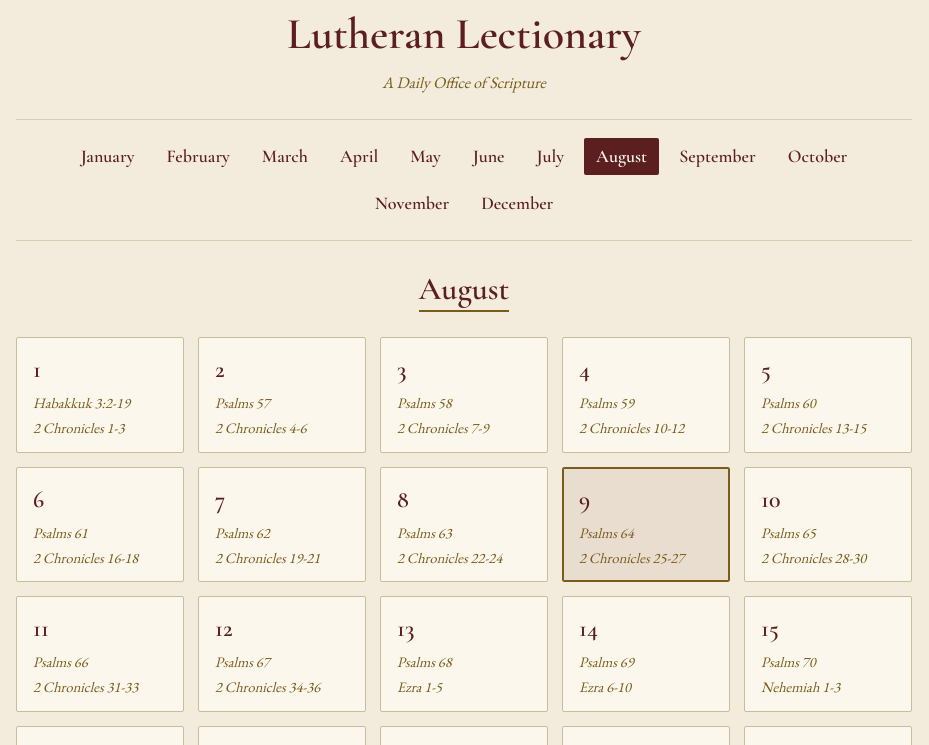
Home › should comma-separate books when there are multiple books in a reading
Step 1. Click the button "May" → (425, 156), box [398,138,453,175]
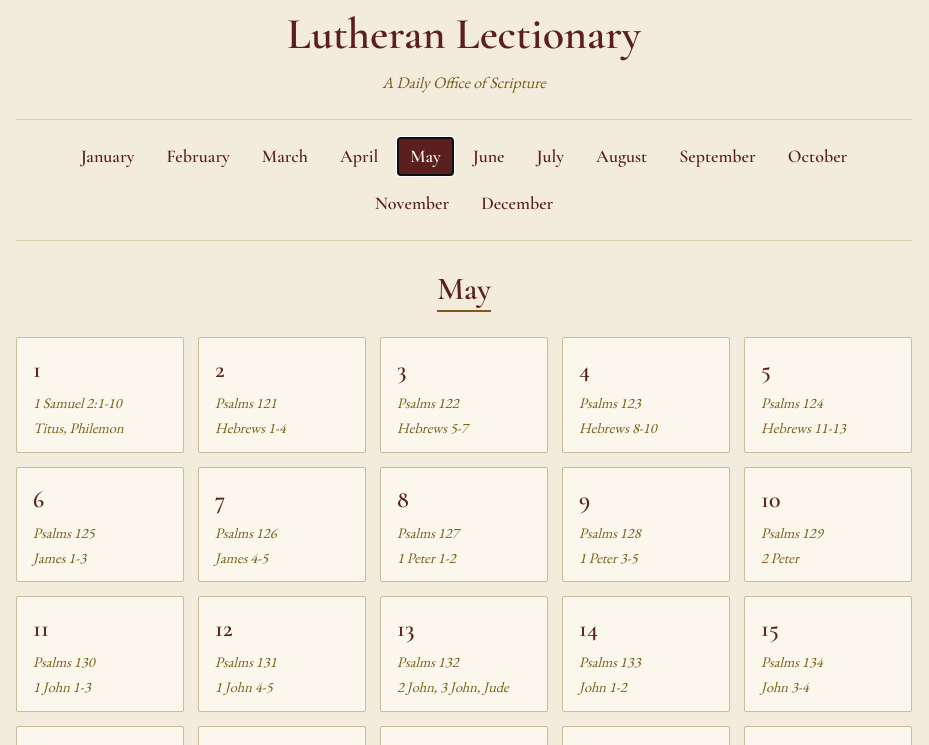
Expected: the text with test id "reading2:May-1" reads "Titus, Philemon", [33,418,124,437]
